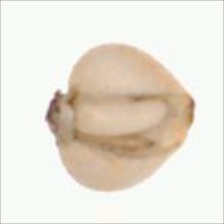L5: (78, 91, 171, 137), (44, 84, 81, 151), (175, 74, 200, 153)
L6: (43, 41, 200, 194)
